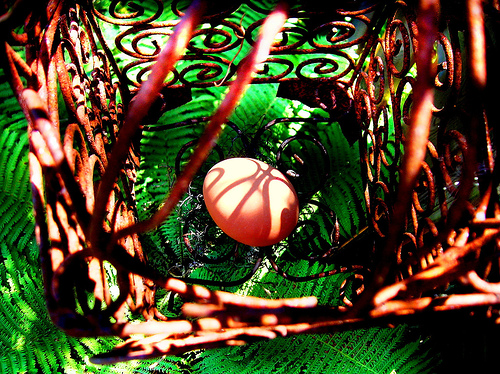egg: (204, 155, 300, 249)
